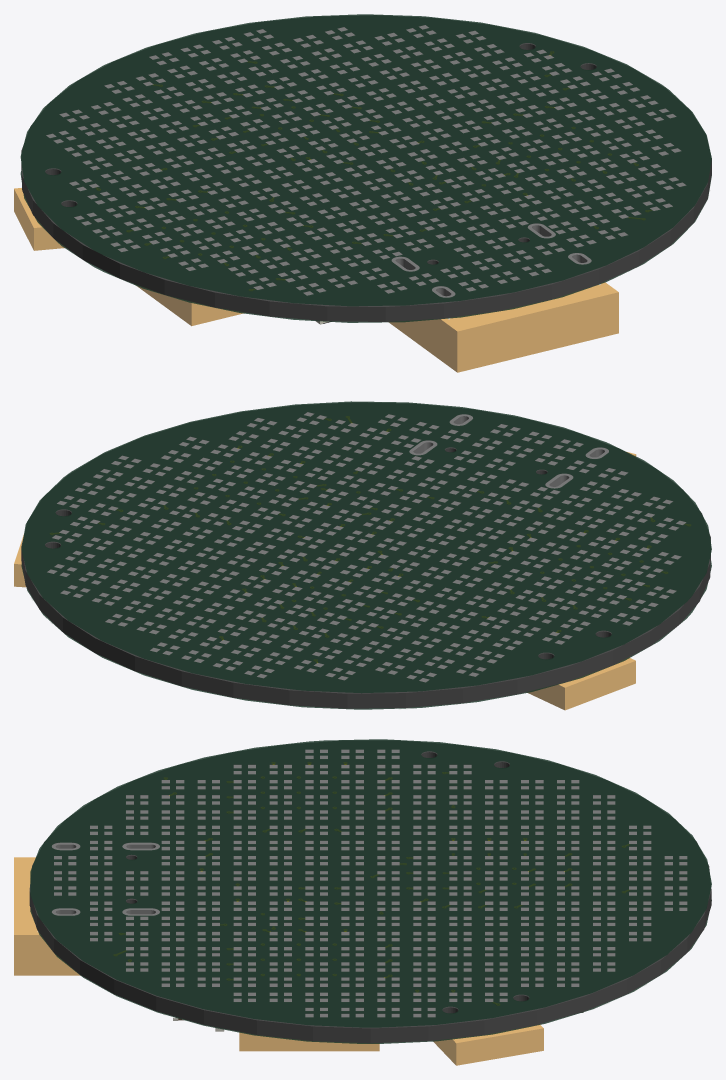
Rendered from board.glb.
3 views of the same model, one above another, from view 1: azimuth 30°, elevation 25°; view 2: azimuth 150°, elevation 25°; view 3: azimuth 270°, elevation 25° (orthographic).
Parts seen in each view (by area): view 1: round-pendant_soldermask (×2), round-pendant_PCB, round-pendant_pad, J1, U1, SW2; view 2: round-pendant_soldermask (×2), round-pendant_PCB, round-pendant_pad, SW2, round-pendant_copper; view 3: round-pendant_soldermask (×2), round-pendant_PCB, round-pendant_pad, J1, SW1, U2.
Boxes of the visible parts, x1,y1,x2,y2 form: round-pendant_soldermask (×2): (20,14,711,322); round-pendant_PCB: (21,15,711,321); round-pendant_pad: (46,25,686,297); J1: (389,282,618,372); U1: (137,286,243,326); SW2: (14,188,64,250); round-pendant_soldermask (×2): (21,401,711,709); round-pendant_PCB: (21,403,710,708); round-pendant_pad: (47,412,686,682); SW2: (527,658,635,710); round-pendant_copper: (50,417,690,662); round-pendant_soldermask (×2): (30,739,711,1043); round-pendant_PCB: (29,741,711,1043); round-pendant_pad: (52,749,687,1017); J1: (14,857,79,975); SW1: (433,1025,543,1065); U2: (239,1032,379,1051).
Size of the model in its own units: 0.0381 by 0.00354 by 0.0389.
